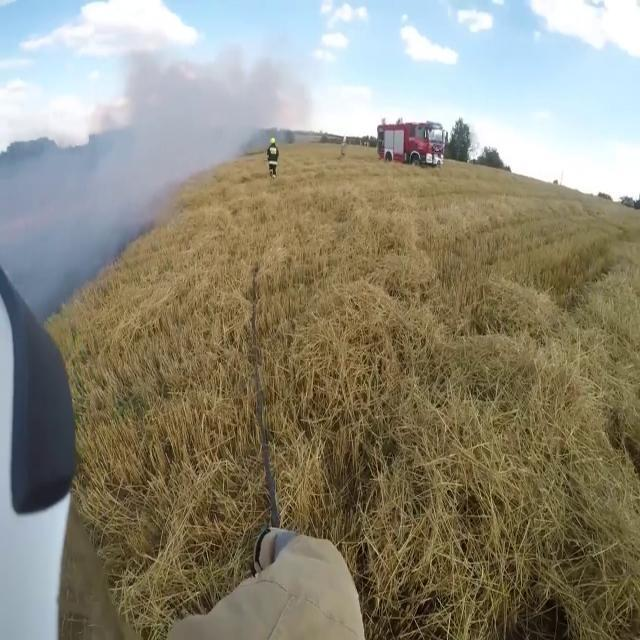Smoke: (0, 33, 192, 313)
